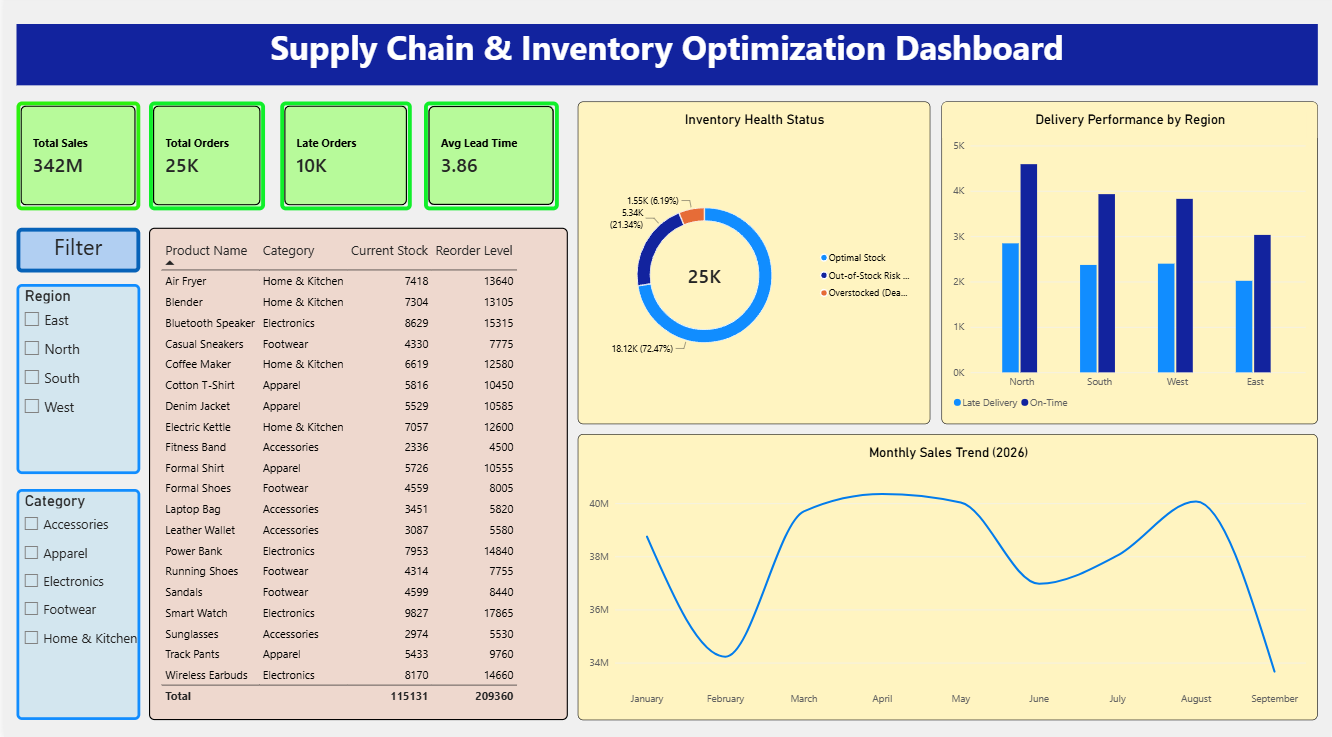

What the dashboard file says about the page in this screenshot:
{"tool":"powerbi","page":{"name":"Page 1","canvas":[1920,1080],"ordinal":0},"visuals":[{"type":"cardVisual","fields":{"Data":["Sum(supply_chain_data.Sales_Amount)"]},"box":[18.1,155.6,179.2,157.4],"z":0},{"type":"cardVisual","fields":{"Data":["CountNonNull(supply_chain_data.Order_ID)"]},"box":[209.9,155.6,168.3,157.4],"z":1000},{"type":"cardVisual","fields":{"Data":["Avg(supply_chain_data.Lead_Time_Days)"]},"box":[608,155.6,195.4,157.4],"z":2000},{"type":"cardVisual","fields":{"Data":["supply_chain_data.Late Orders"]},"box":[399.9,155.6,190,157.4],"z":3000},{"type":"slicer","fields":{"Values":["supply_chain_data.Region"]},"box":[18.1,419.8,179.2,275.1],"z":4000},{"type":"slicer","fields":{"Values":["supply_chain_data.Category"]},"box":[18.1,716.6,179.2,334.8],"z":5000},{"type":"clusteredColumnChart","title":"Delivery Performance by Region","fields":{"Category":["supply_chain_data.Region"],"Y":["CountNonNull(supply_chain_data.Order_ID)"],"Series":["supply_chain_data.Delivery_Status"]},"box":[1357.2,155.6,544.7,466.9],"z":6000},{"type":"donutChart","title":"Inventory Health Status","fields":{"Category":["supply_chain_data.Inventory_Status"],"Y":["CountNonNull(supply_chain_data.Order_ID)"]},"box":[830.6,155.6,510.3,466.9],"z":7000},{"type":"tableEx","fields":{"Values":["supply_chain_data.Product_Name","supply_chain_data.Category","Sum(supply_chain_data.Current_Stock)","Sum(supply_chain_data.Reorder_Level)"]},"box":[209.9,338.4,606.2,713],"z":8000},{"type":"textbox","box":[18.1,43.4,1883.9,88.7],"z":9000},{"type":"textbox","box":[18.1,338.4,179.2,65.1],"z":10000},{"type":"lineChart","title":"Monthly Sales Trend (2026)","fields":{"Category":["supply_chain_data.Order_Date.Variation.Date Hierarchy.Month"],"Y":["Sum(supply_chain_data.Sales_Amount)"]},"box":[830.6,637,1071.3,414.4],"z":11000}]}

Visuals, with their boxes in screenshot pixels (x1, y1, x2, y2), scaled from the page's 1920x1080 canvas onto the 1332x737 screenshot:
cardVisual - Sum(supply_chain_data.Sales_Amount): 13,106,137,214
cardVisual - CountNonNull(supply_chain_data.Order_ID): 146,106,262,214
cardVisual - Avg(supply_chain_data.Lead_Time_Days): 422,106,557,214
cardVisual - supply_chain_data.Late Orders: 277,106,409,214
slicer - supply_chain_data.Region: 13,286,137,474
slicer - supply_chain_data.Category: 13,489,137,717
"Delivery Performance by Region" clusteredColumnChart: 942,106,1319,425
"Inventory Health Status" donutChart: 576,106,930,425
tableEx - supply_chain_data.Product_Name x supply_chain_data.Category: 146,231,566,717
textbox: 13,30,1320,90
textbox: 13,231,137,275
"Monthly Sales Trend (2026)" lineChart: 576,435,1319,717
